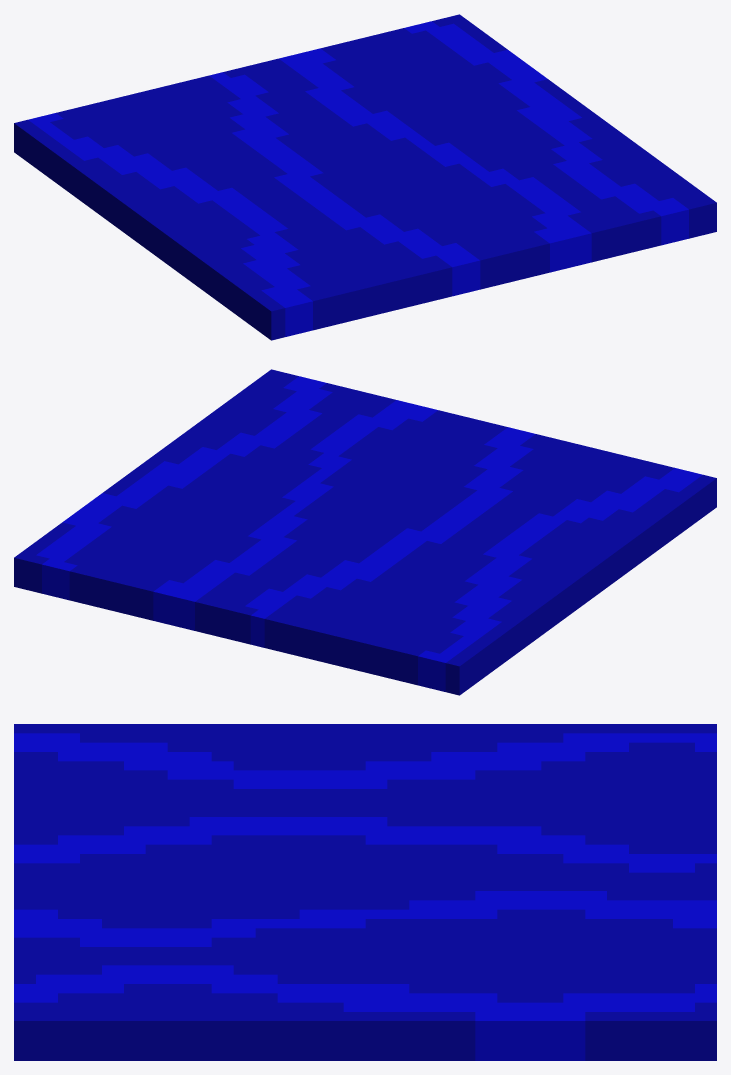
The model's file is Water.obj.
3 views of the same model, one above another, from view 1: azimuth 30°, elevation 25°; view 2: azimuth 150°, elevation 25°; view 3: azimuth 270°, elevation 25° (orthographic). The views are drawn at different scales.
Size of the model in its own units: 3.2 by 0.2 by 3.2.
Materials: 1 (1 with a texture image).
